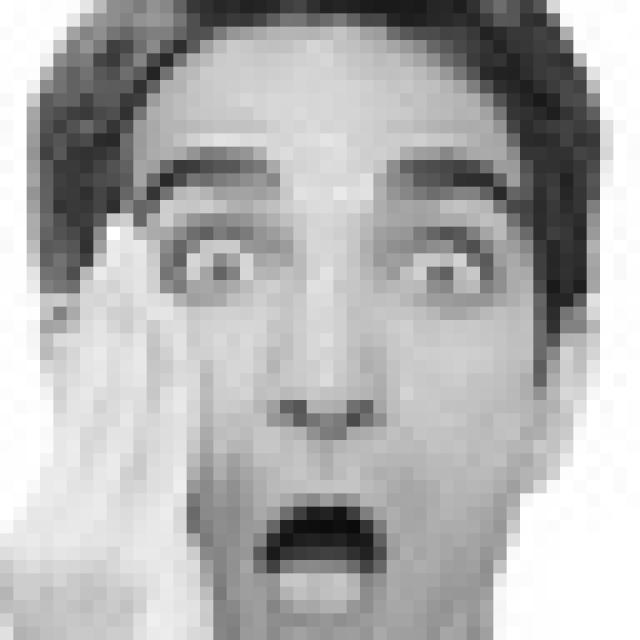surprise: (132, 114, 530, 640)
